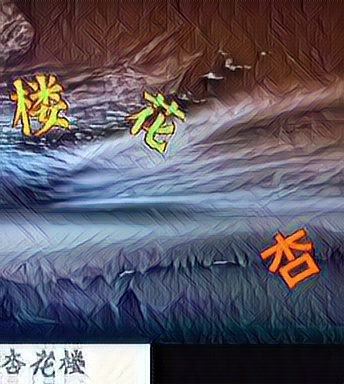BBA8: (125, 88, 189, 155)
C2A5: (7, 72, 71, 139)
D0D3: (257, 223, 321, 290)
